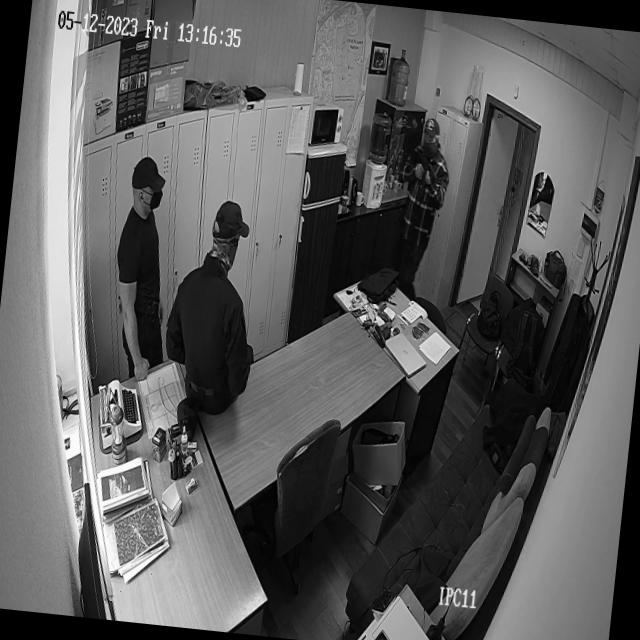gun: (410, 154, 442, 192), (517, 250, 529, 267)
person: (158, 190, 270, 424), (109, 154, 182, 370)
person with a gun: (390, 113, 454, 294)
